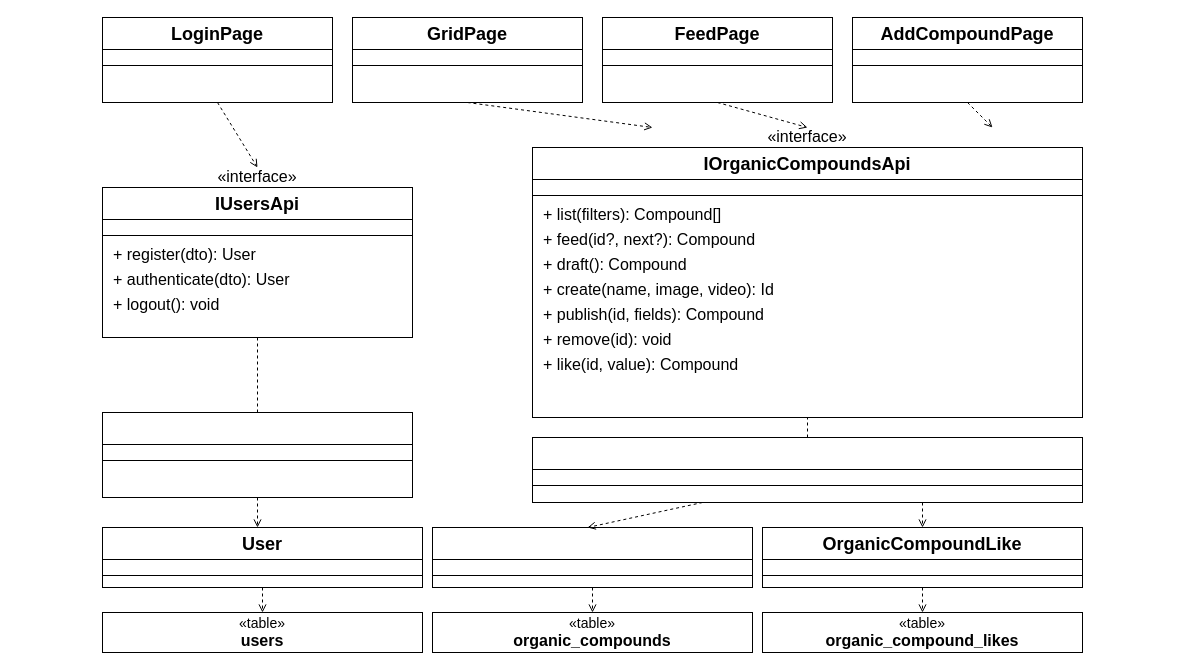
Image size: 1184x670. Some labels were removed from this diagram. The centre of each missing label's shape, as x and y in pixels:
"OrganicCompound" goes at (x=592, y=557).
"OrganicCompoundsController" goes at (x=807, y=469).
"UsersController" goes at (x=257, y=455).
